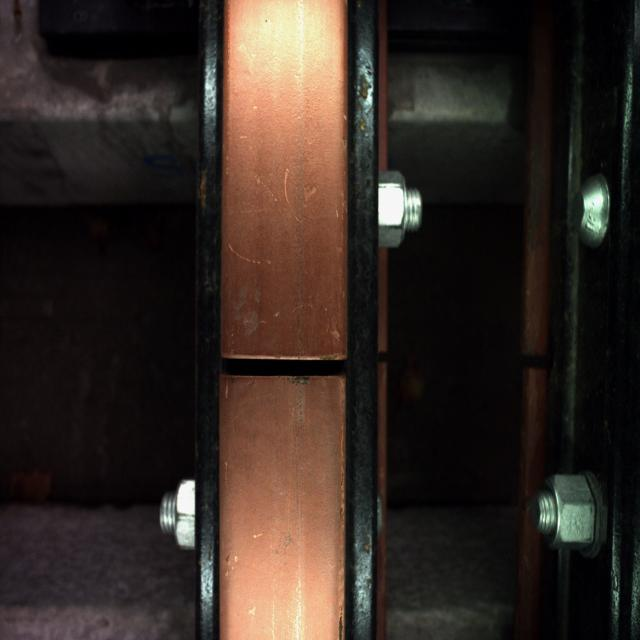crack: (202, 301, 380, 440)
